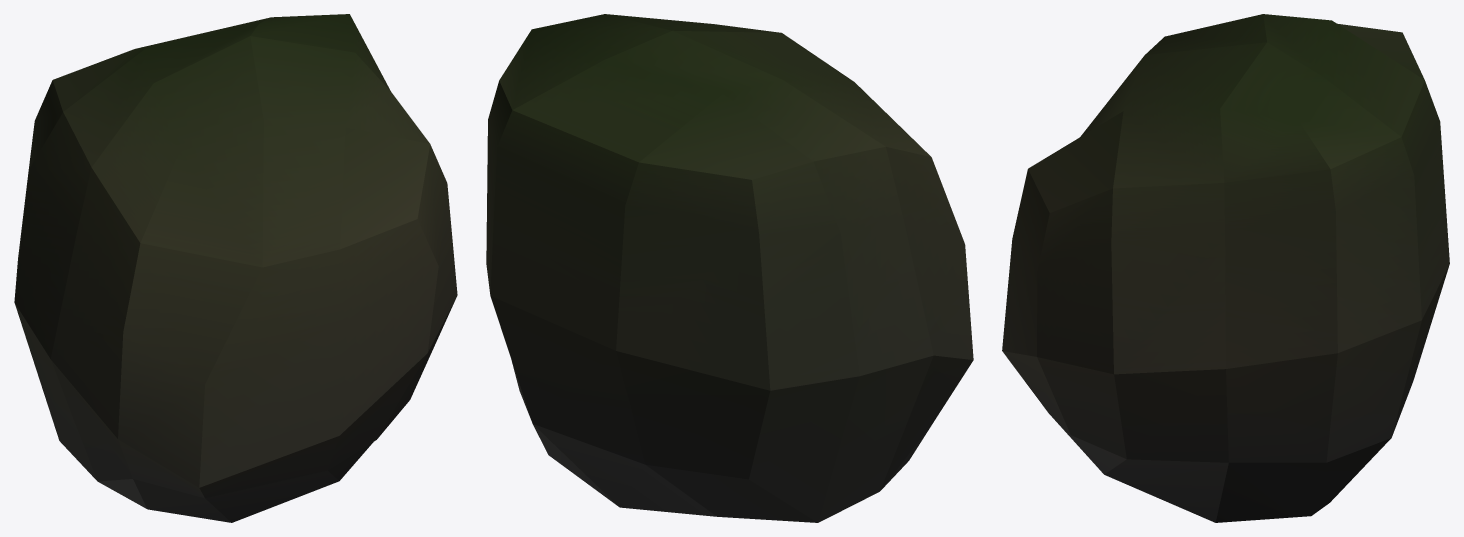
The model's file is SRocks_1_v2.fbx.
The picture shows the model from 3 angles, left to right: view 1: azimuth 30°, elevation 25°; view 2: azimuth 150°, elevation 25°; view 3: azimuth 270°, elevation 25°; orthographic projection. The views are drawn at different scales.
Parts seen in each view (by area): view 1: pCube42; view 2: pCube42; view 3: pCube42.
Part boxes in pixels (bbox=[...]): pCube42: bbox=[14, 14, 457, 522]; pCube42: bbox=[486, 14, 973, 522]; pCube42: bbox=[1002, 14, 1449, 522].
Bounding box in the file's own units: 96.32 × 112 × 97.34.
